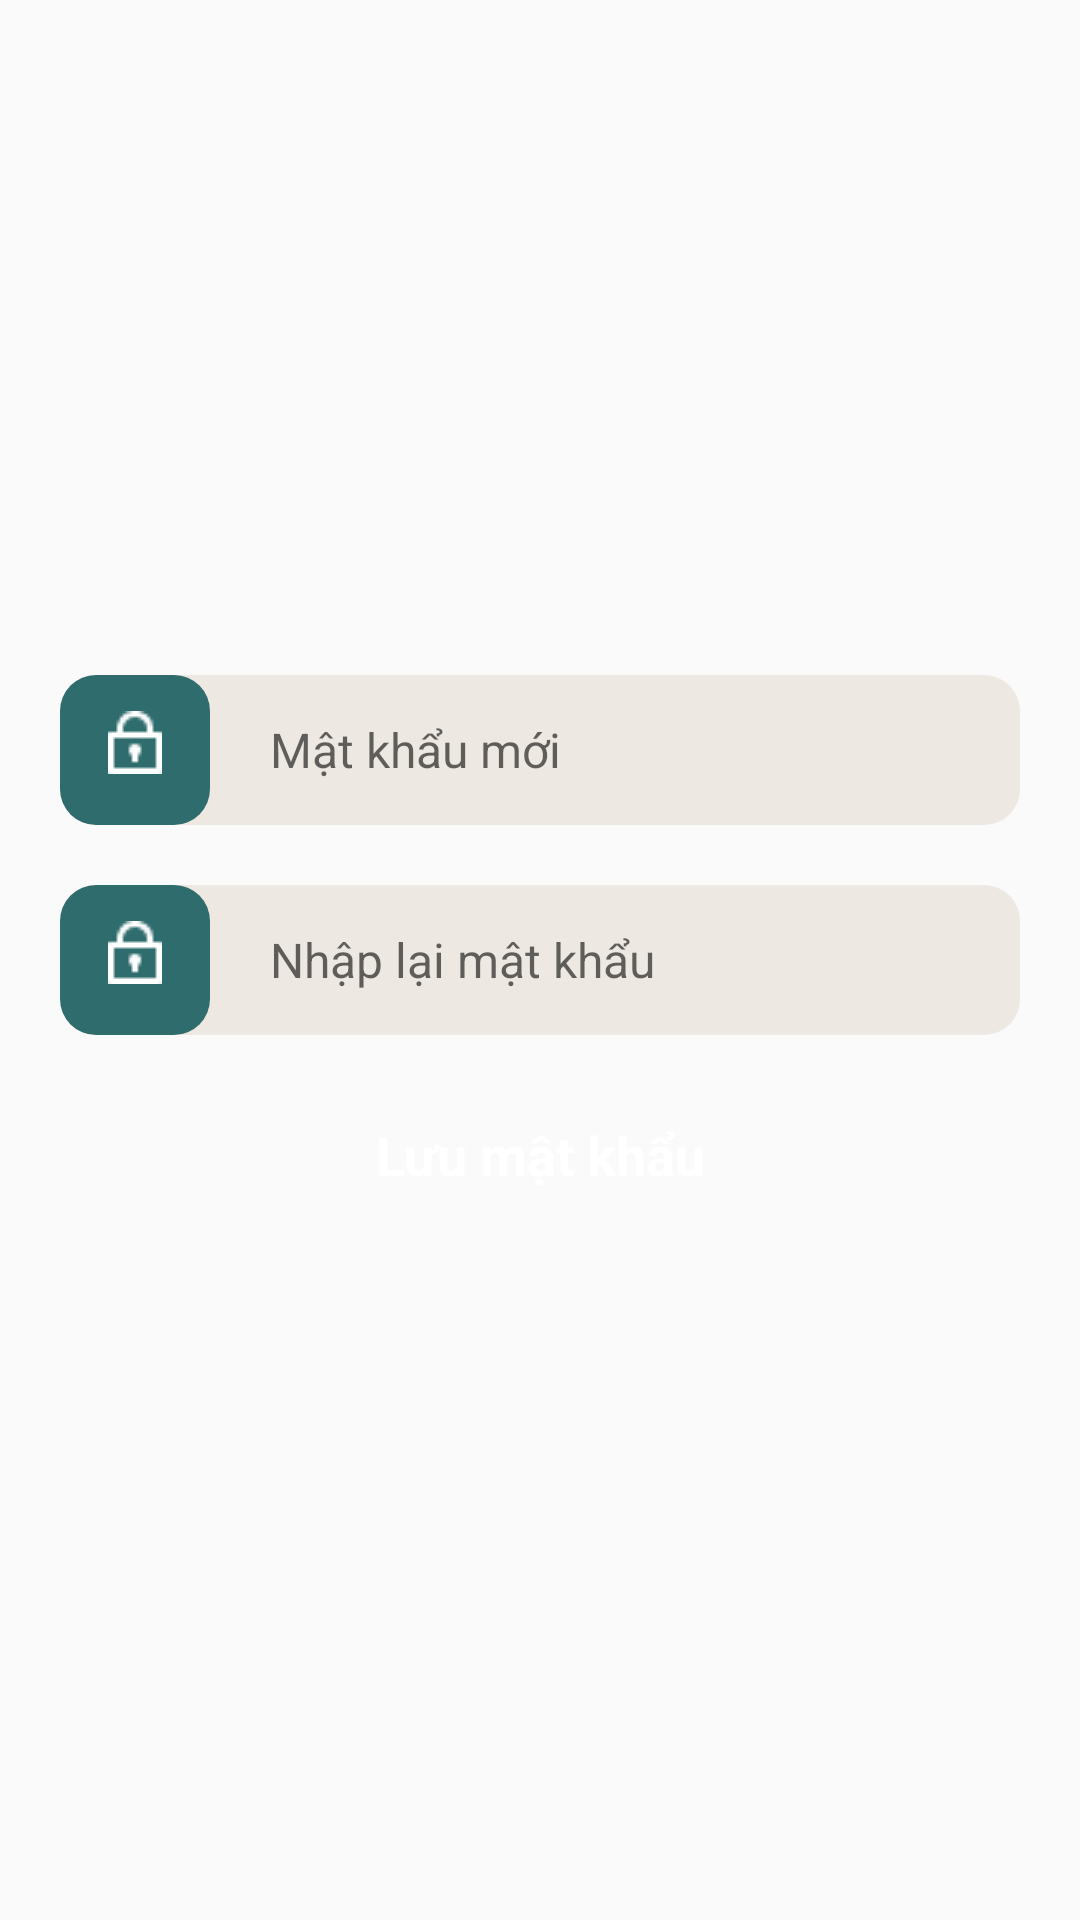

Screen size 1080 × 1920. Icon name, then its box in pixels as (x1, y1, x2, y2):
lock: (108, 711, 162, 774), (108, 921, 162, 984)
